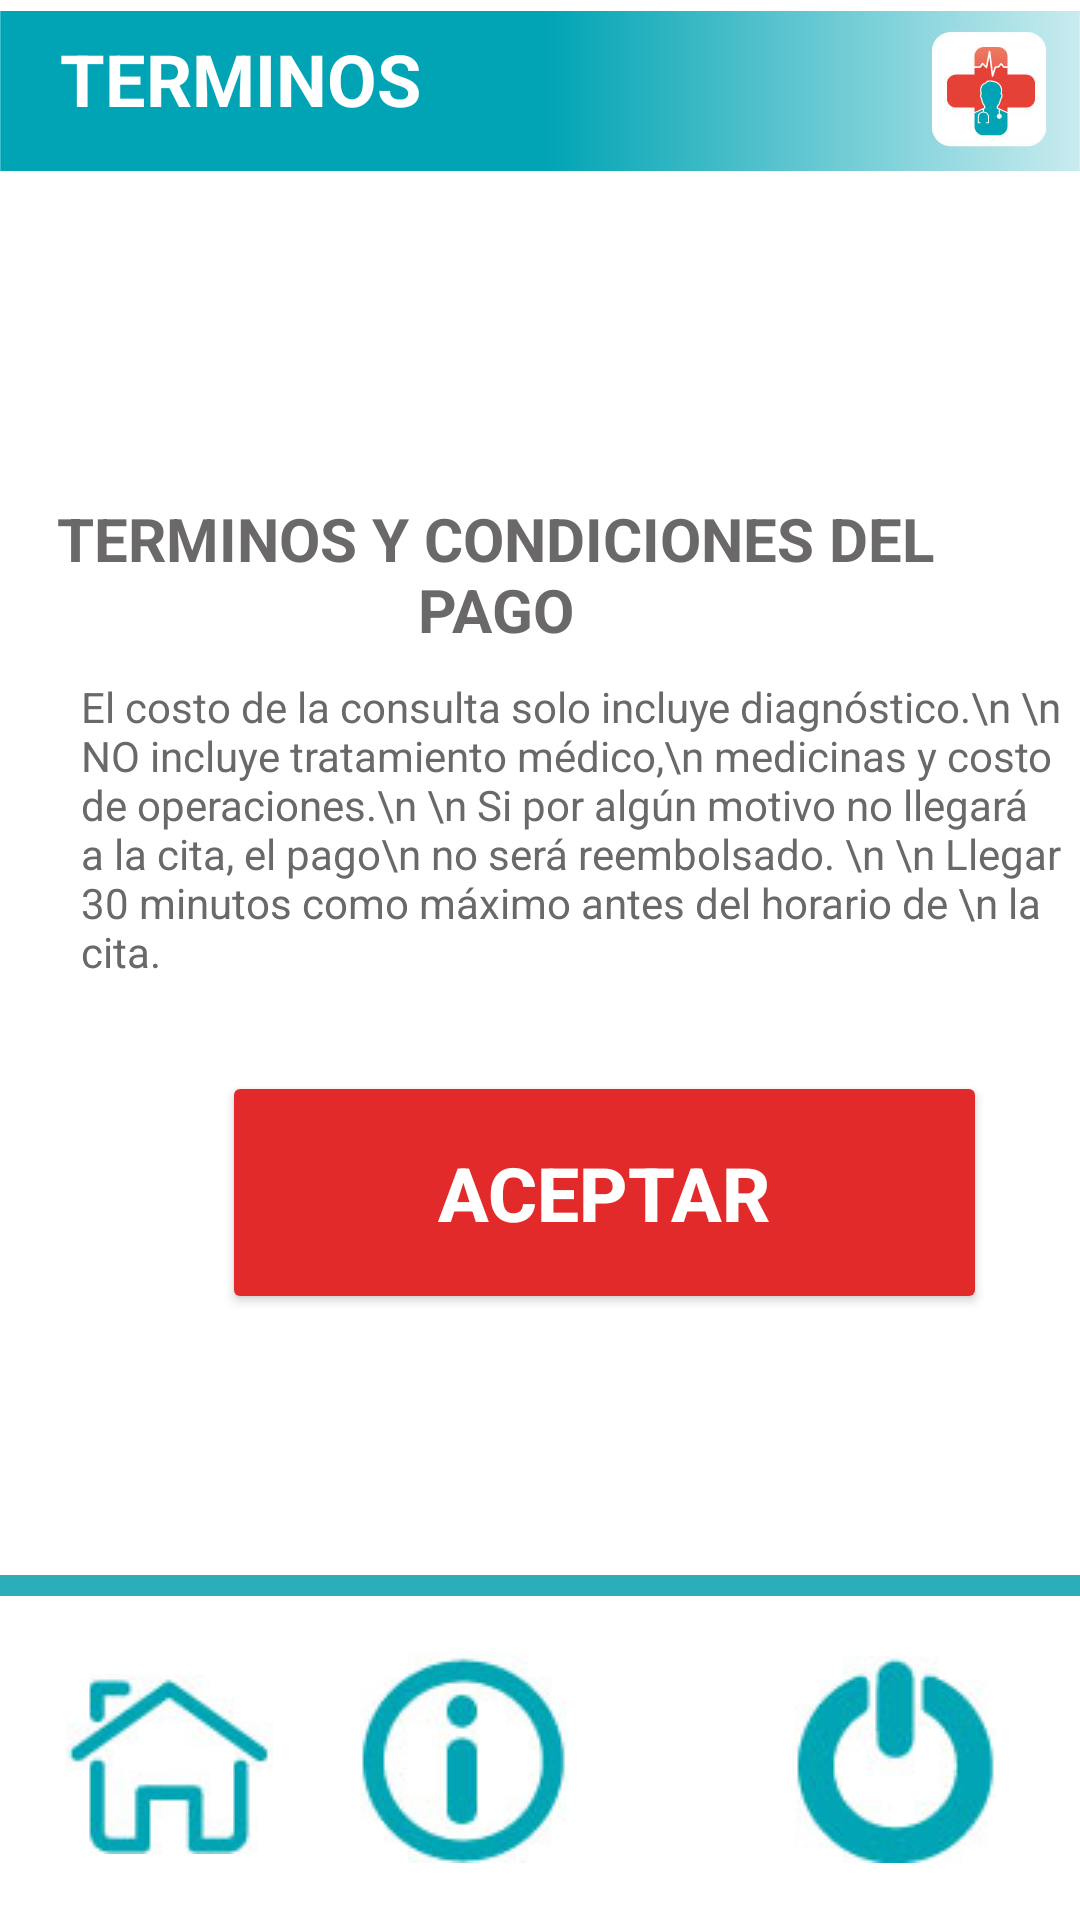

Icons on this 1080 × 1920 Android screen, each with its box as (x1, y1, x2, y2):
apagar: (797, 1658, 994, 1863)
info: (362, 1658, 565, 1863)
inicio: (68, 1679, 273, 1854)
